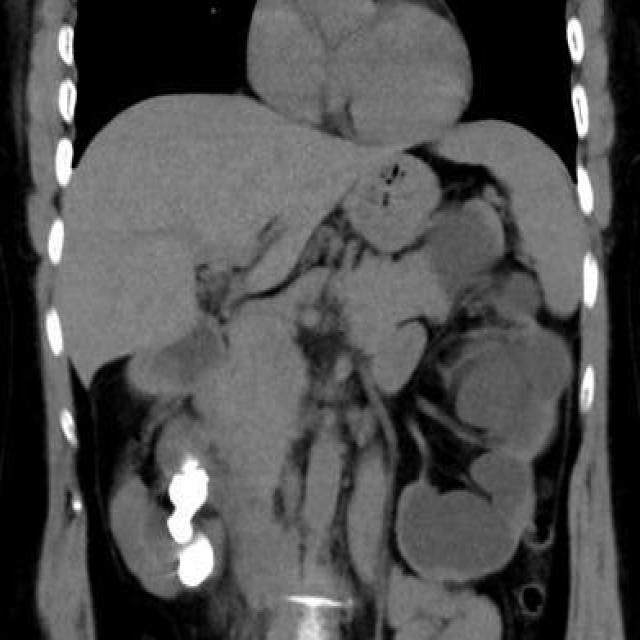Tas_Var: (161, 467, 211, 545), (174, 537, 222, 591), (181, 456, 200, 472)
